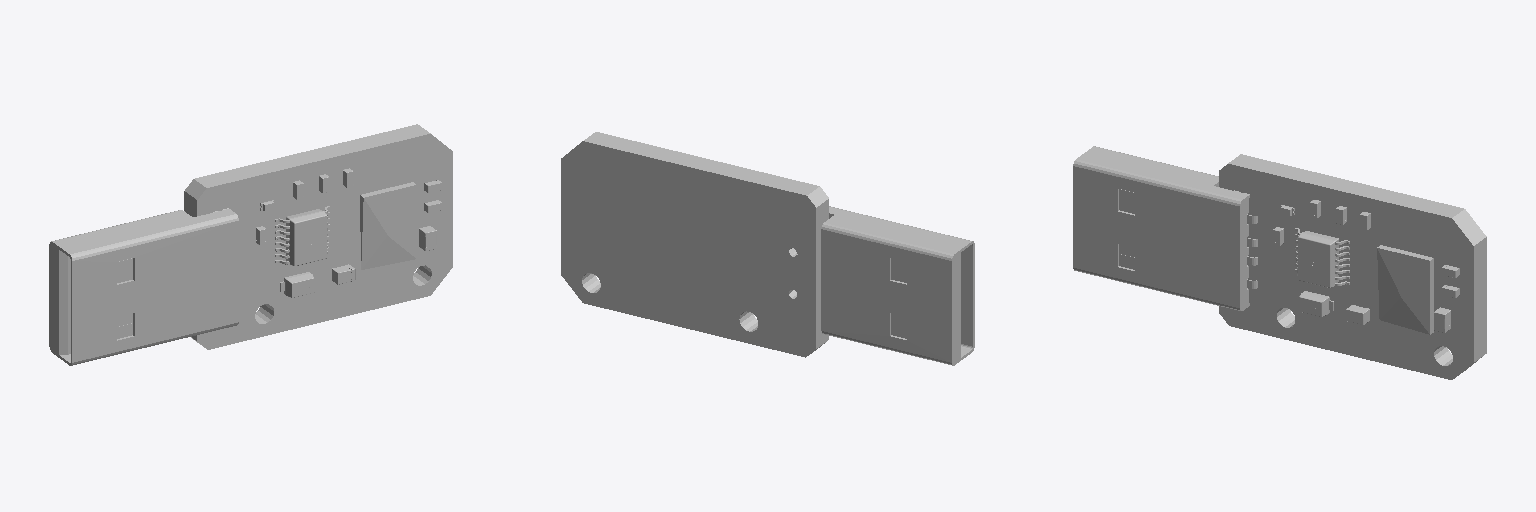
File: OBJ_PCB_DIY SD CARD.obj
The picture shows the model from 3 angles: view 1: azimuth 30°, elevation 25°; view 2: azimuth 150°, elevation 25°; view 3: azimuth 330°, elevation 25°; orthographic projection.
Size of the model in its own units: 173 by 68.8 by 17.87.